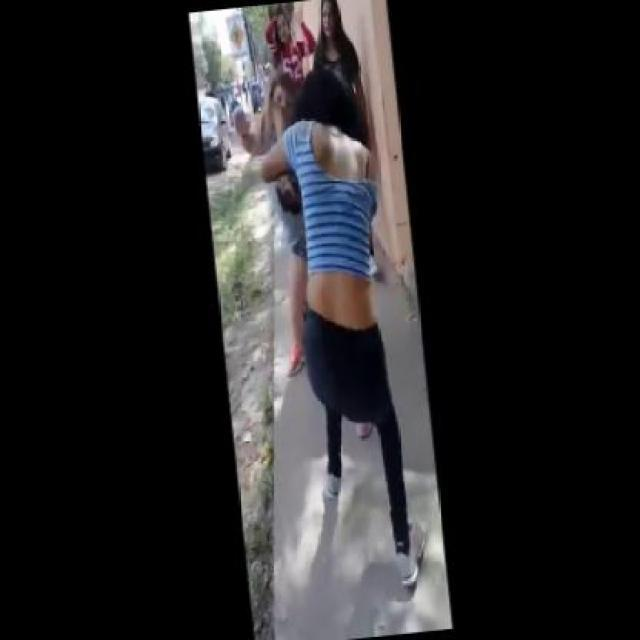fight: (229, 66, 400, 446)
